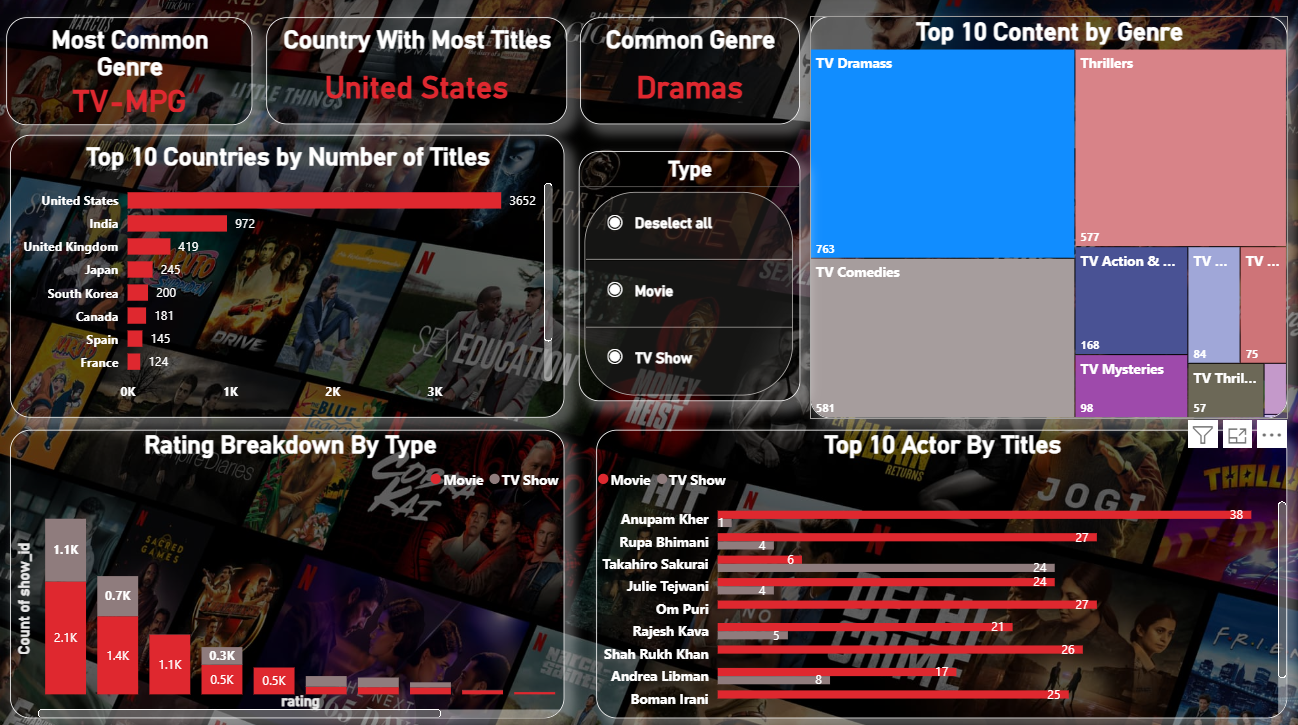

The page's visual inventory and layout, read from the dashboard file:
{"tool":"powerbi","page":{"name":"Genre ","canvas":[1280,720],"ordinal":1},"visuals":[{"type":"image","box":[0,0,1280,720],"z":0},{"type":"shape","box":[0,0,1280,720],"z":1000},{"type":"card","title":"Common Genre","fields":{"Values":["Min(category mapping.listed_in)"]},"box":[572.8,20.2,215,105],"z":2000},{"type":"card","title":"Country With Most Titles","fields":{"Values":["Min(Netflix_Titles.country)"]},"box":[265.5,20.2,294.3,105],"z":3000},{"type":"card","title":"Most Common Genre","fields":{"Values":["Min(Netflix_Titles.rating)"]},"box":[11.5,20.2,240.9,105.3],"z":4000},{"type":"barChart","title":"Top 10 Countries by  Number of Titles","fields":{"Category":["Netflix_Titles.country"],"Y":["CountNonNull(Netflix_Titles.show_id)"]},"box":[14.4,135.6,542.5,277],"z":5000},{"type":"columnChart","title":"Rating Breakdown By Type","fields":{"Category":["Netflix_Titles.rating"],"Series":["Netflix_Titles.type"],"Y":["CountNonNull(Netflix_Titles.show_id)"]},"box":[14.4,424.2,542.5,282.8],"z":6000},{"type":"clusteredBarChart","title":"Top 10 Actor By Titles","fields":{"Category":["Cast name.cast"],"Y":["CountNonNull(Cast name.show_id)"],"Series":["Netflix_Titles.type"]},"box":[588.2,424.3,676.2,282.5],"z":7000},{"type":"treemap","title":"Top 10 Content by Genre","fields":{"Details":["category mapping.listed_in"],"Values":["CountNonNull(category mapping.show_id)"]},"box":[797.3,19.6,467.1,393.8],"z":8000},{"type":"advancedSlicerVisual","title":"Type","fields":{"Values":["Netflix_Titles.type"]},"box":[571.1,151.6,216.4,244.6],"z":9000}]}

Visuals, with their boxes in screenshot pixels (x1, y1, x2, y2), scaled from the page's 1280x720 canvas onto the 1298x725 screenshot:
image: Rect(0, 0, 1297, 724)
shape: Rect(0, 0, 1297, 724)
"Common Genre" card: Rect(581, 20, 799, 126)
"Country With Most Titles" card: Rect(269, 20, 568, 126)
"Most Common Genre" card: Rect(12, 20, 256, 126)
"Top 10 Countries by  Number of Titles" barChart: Rect(15, 137, 565, 415)
"Rating Breakdown By Type" columnChart: Rect(15, 427, 565, 712)
"Top 10 Actor By Titles" clusteredBarChart: Rect(596, 427, 1282, 712)
"Top 10 Content by Genre" treemap: Rect(809, 20, 1282, 416)
"Type" advancedSlicerVisual: Rect(579, 153, 799, 399)
